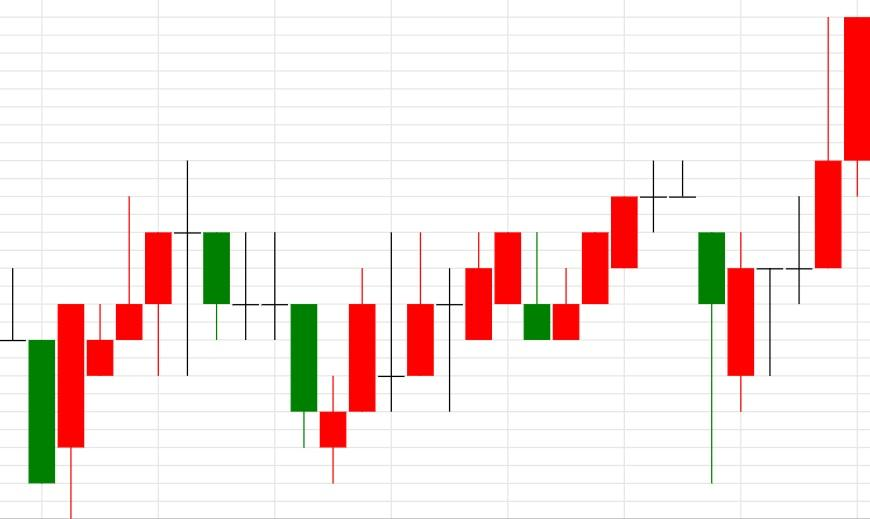evening_star_fall: (28, 160, 231, 518)
